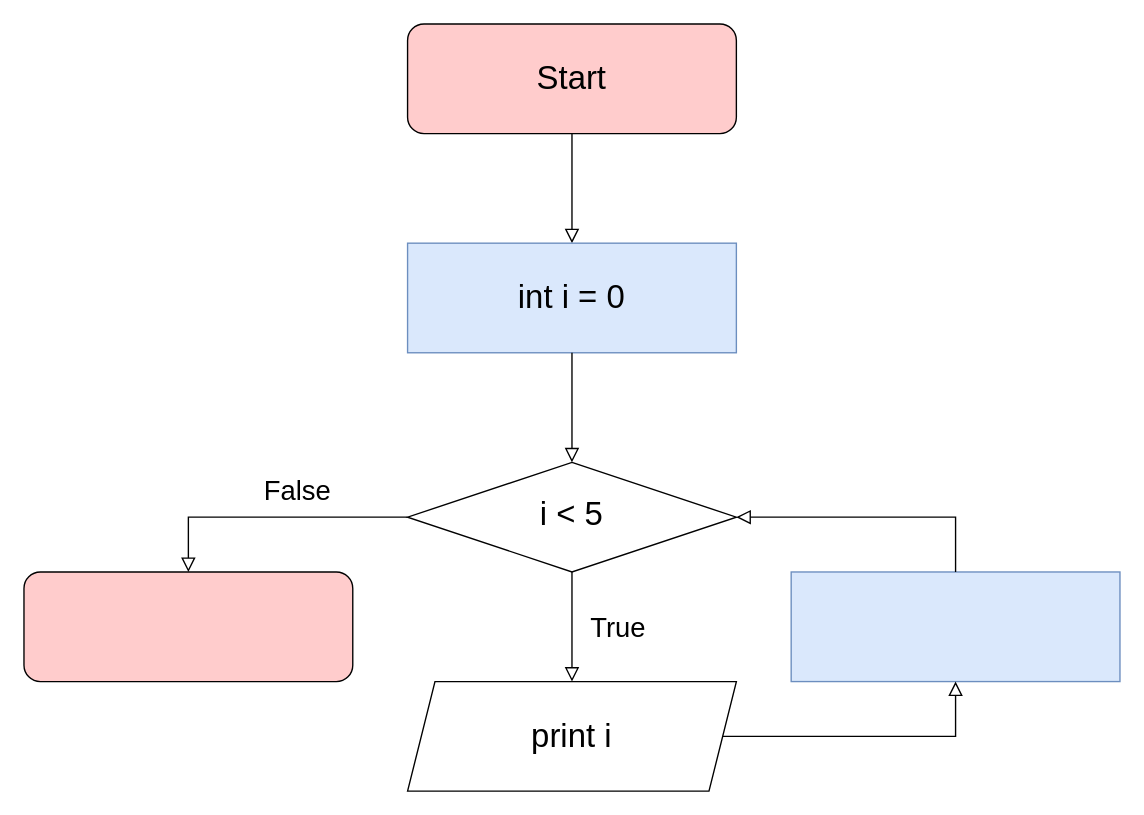
Some shapes in this 1144 by 815 pixel diagram are drawn without their labels. The shapes that lost their labels are listed below. From the top down, each one's centre as x and y in pixels, then its label:
the point at 188,626: Stop
the point at 955,626: i = i + 1
